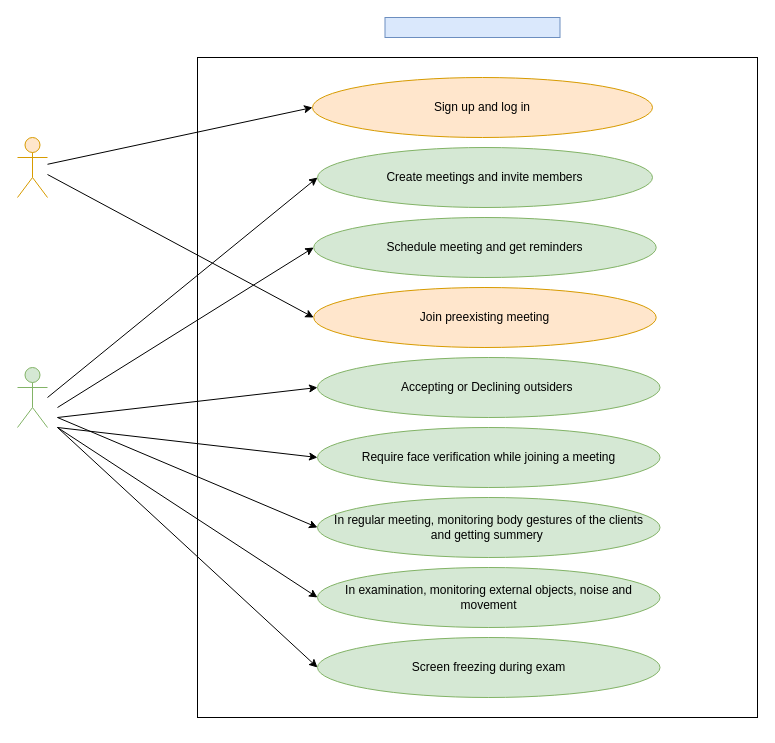
This 775x743 diagram has some shape labels left out. Here are the shapes that lost their labels. From the top down, the centre of each, then its label:
At pixel 472 27: "Use Case Diagram".
At pixel 32 167: "Client".
At pixel 32 397: "Host".
